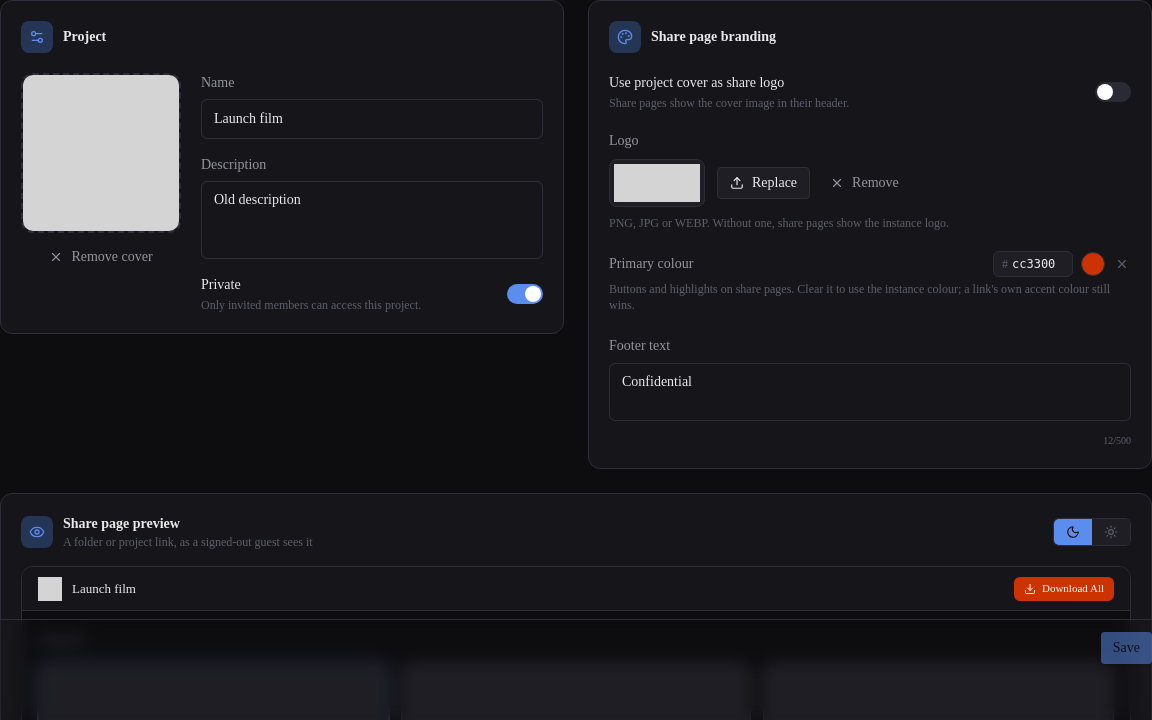
Test: saving several parts › a failed branding write is reported with the details still saved
This screenshot has width=1152, height=720.
Expected: the field named "Primary colour hex" is shown, [1008,252,1072,276]
Replace the text in the field labelled "Name" with "Renamed" at (372, 119), box [201,99,543,139]
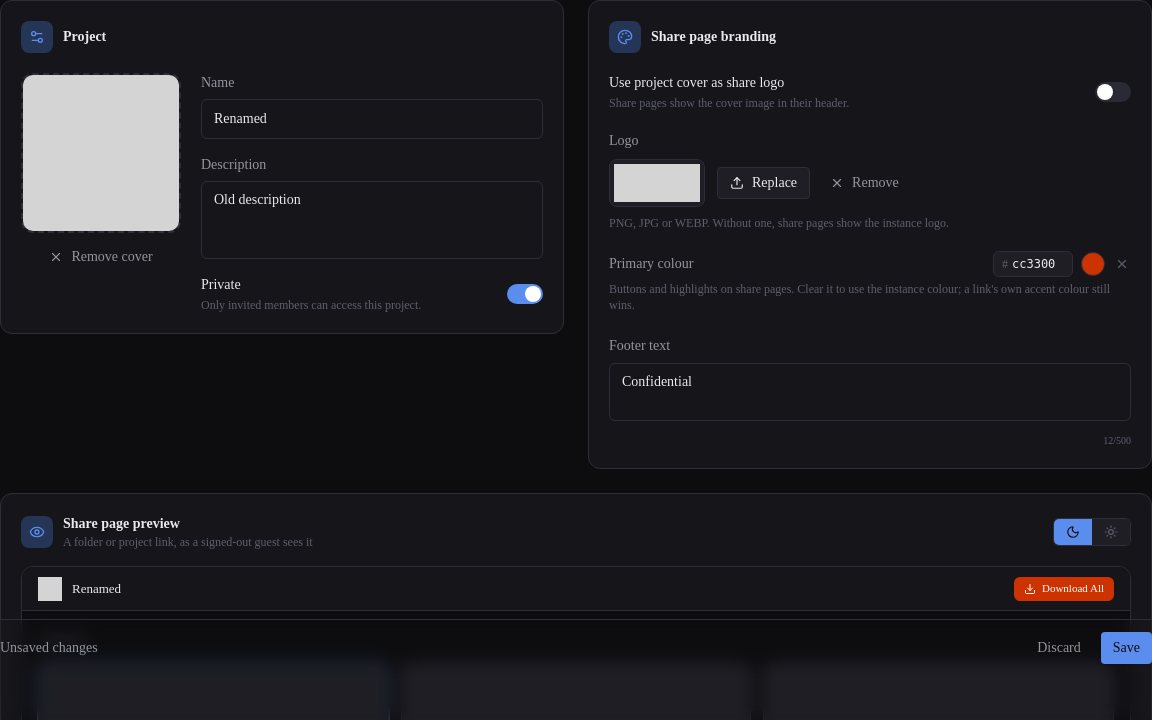
Replace the text in the text box labelled "Footer text" with "x" at (870, 392), box [609,363,1131,421]
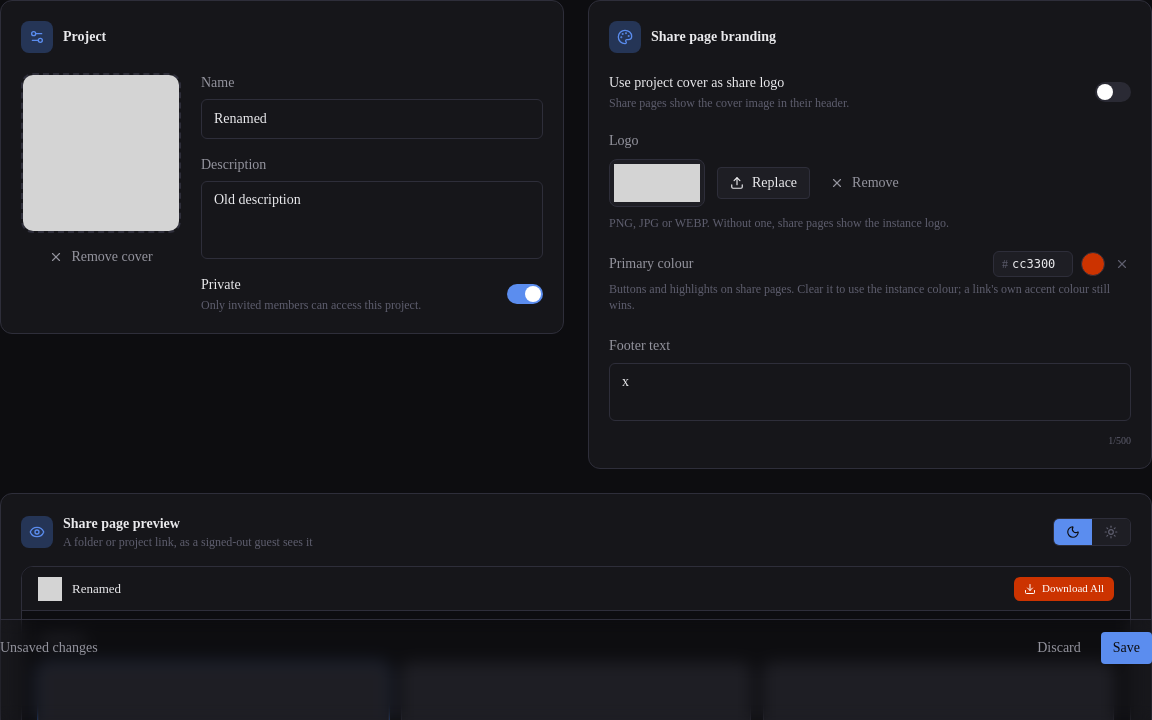
Click the button "Save" at (1126, 648), box [1101,632,1151,664]
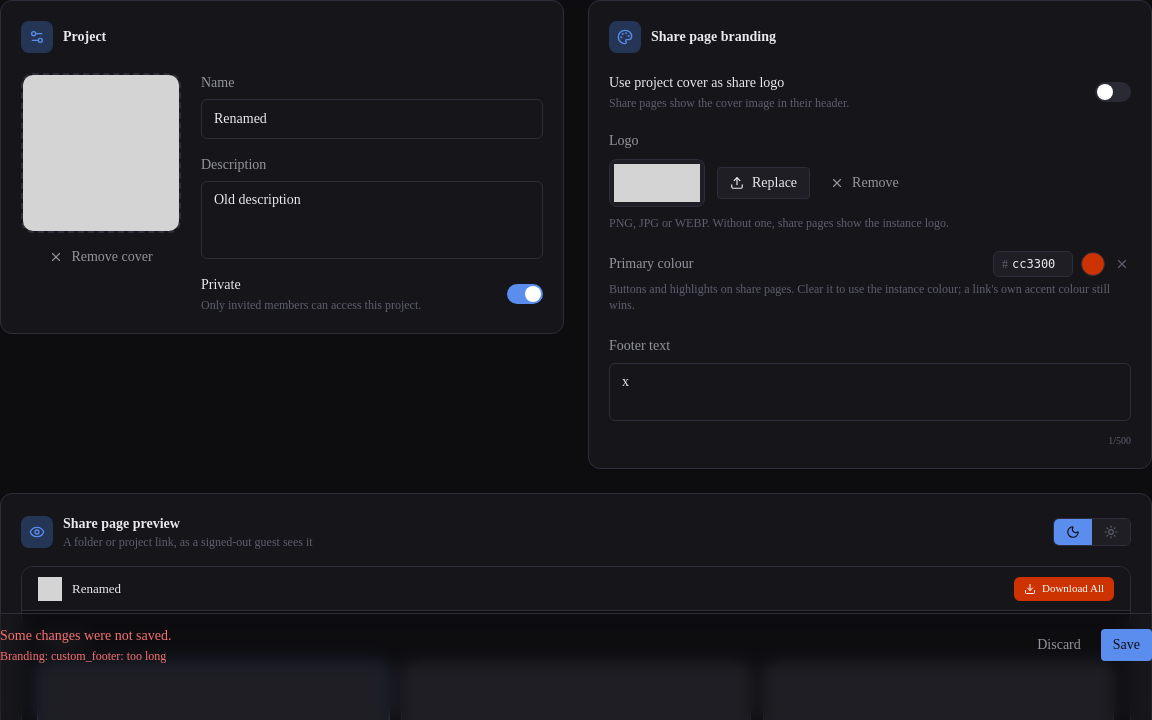
Expected: the list item "Branding: custom_footer: too long" is shown, [0,649,166,663]
